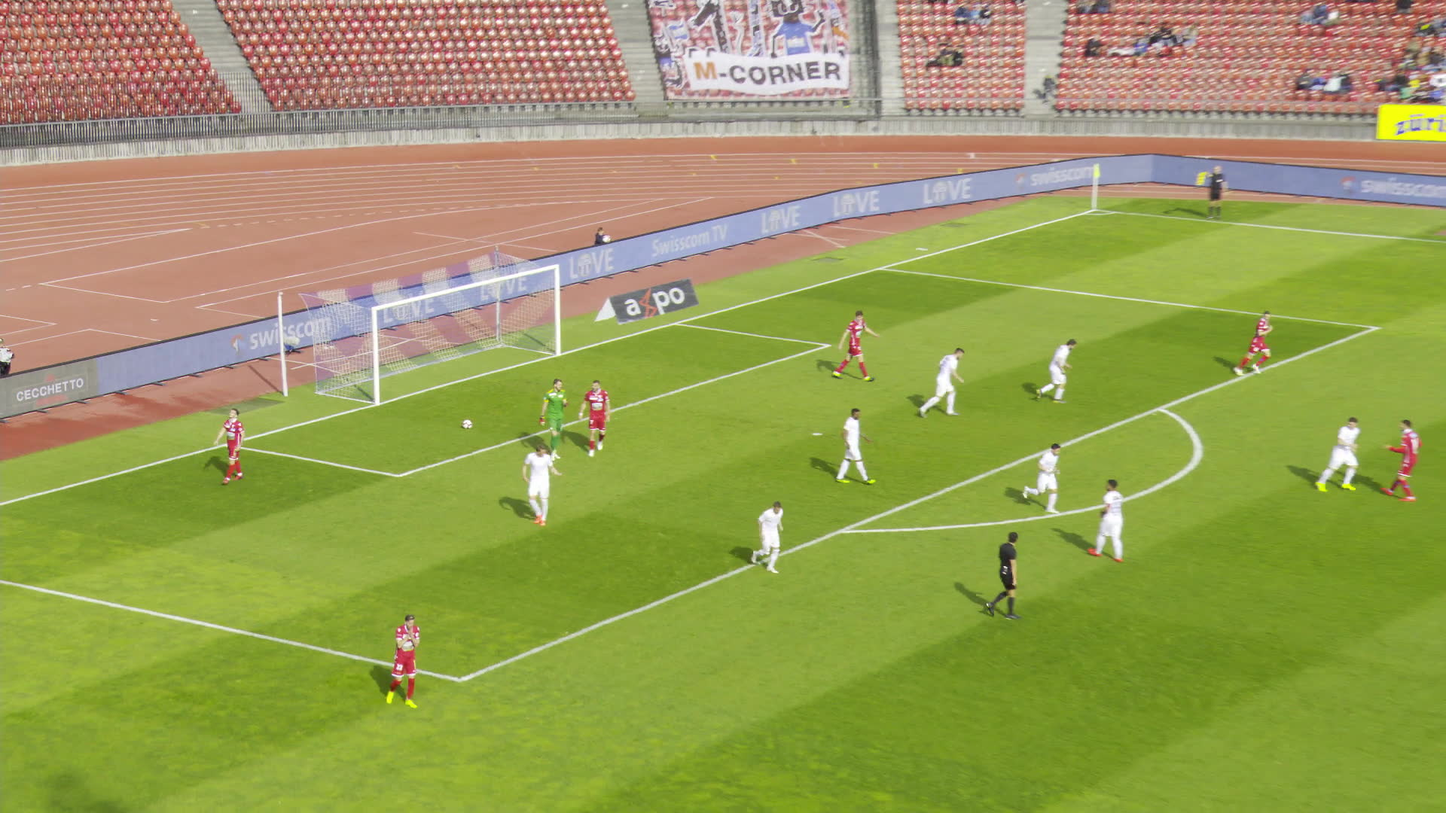ball: (463, 419, 475, 431)
player: (383, 612, 424, 712), (526, 443, 566, 531), (1389, 415, 1429, 502), (1326, 419, 1369, 495), (835, 406, 875, 486), (1095, 477, 1130, 562), (1237, 309, 1281, 375), (837, 310, 877, 382), (536, 379, 571, 461), (930, 346, 969, 419), (216, 408, 252, 486), (1041, 334, 1081, 404), (584, 377, 617, 457), (1032, 443, 1066, 513), (756, 503, 788, 573)
referee: (987, 531, 1030, 622), (1202, 160, 1233, 218)
